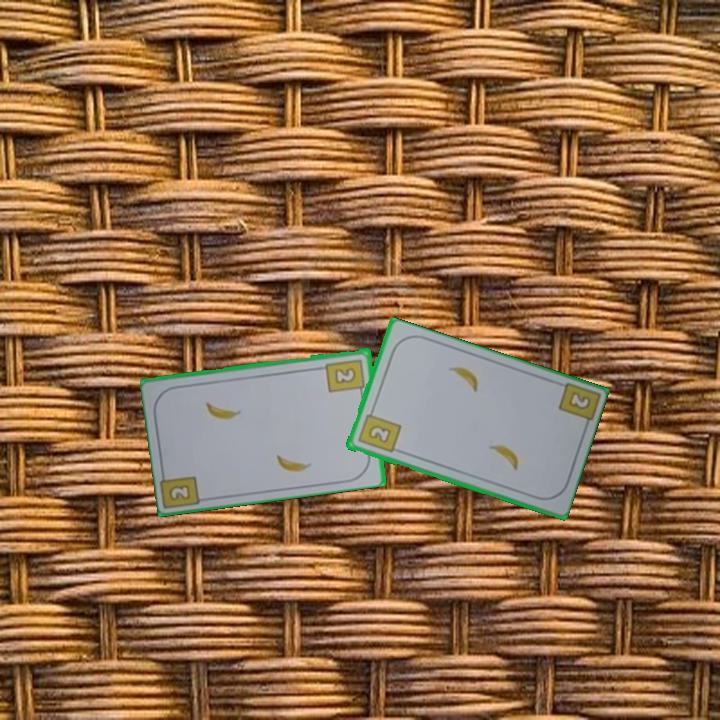2b: (354, 405, 403, 456), (323, 355, 368, 397), (567, 390, 591, 411), (168, 483, 191, 501)
